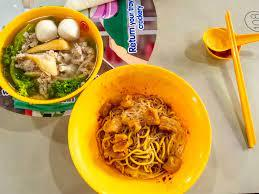Braised Crucian Carp: (67, 63, 210, 192), (0, 5, 103, 108)
